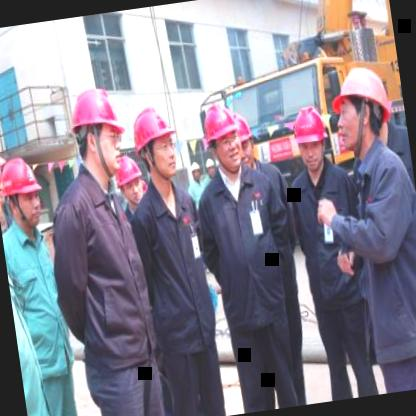helmet: (327, 58, 400, 160), (62, 80, 127, 181), (125, 98, 183, 186), (0, 152, 46, 232), (197, 99, 246, 172), (288, 105, 333, 178), (112, 152, 148, 210), (230, 110, 260, 174), (0, 106, 9, 223)
